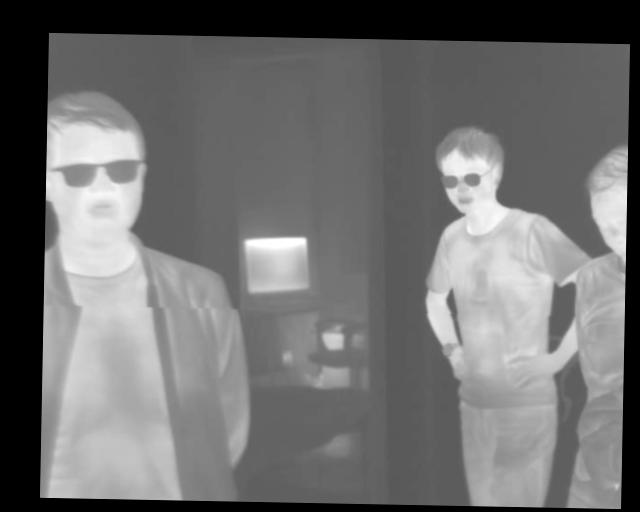face: (44, 88, 150, 242), (434, 124, 505, 216)
